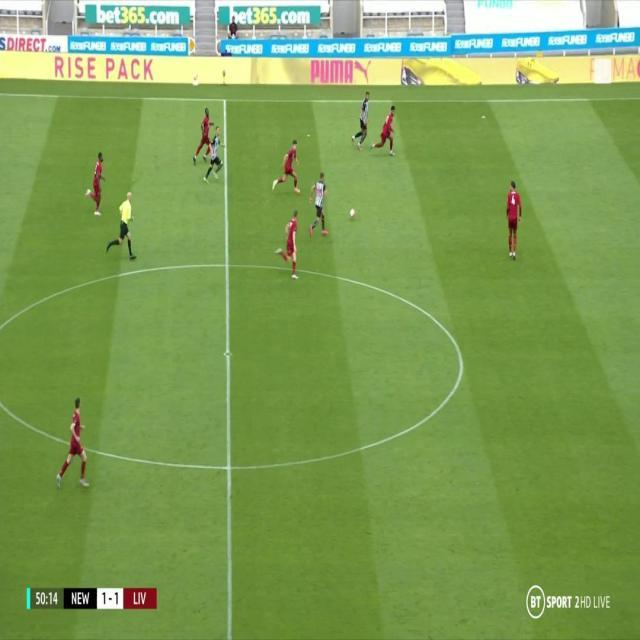ball: (349, 206, 357, 219)
player: (56, 394, 90, 494), (273, 137, 302, 198), (277, 208, 301, 281), (505, 179, 524, 263), (308, 169, 330, 240), (87, 151, 109, 221), (372, 104, 400, 158), (352, 89, 373, 153), (194, 105, 213, 172), (204, 126, 224, 186)
referee: (108, 191, 137, 262)
